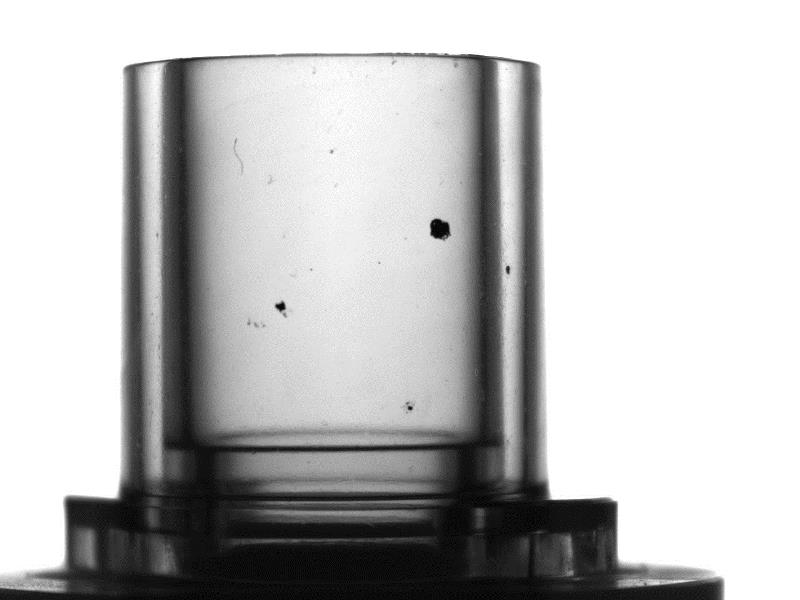blackdot: (429, 216, 453, 241), (271, 297, 293, 320), (402, 399, 421, 415), (503, 261, 514, 278)
